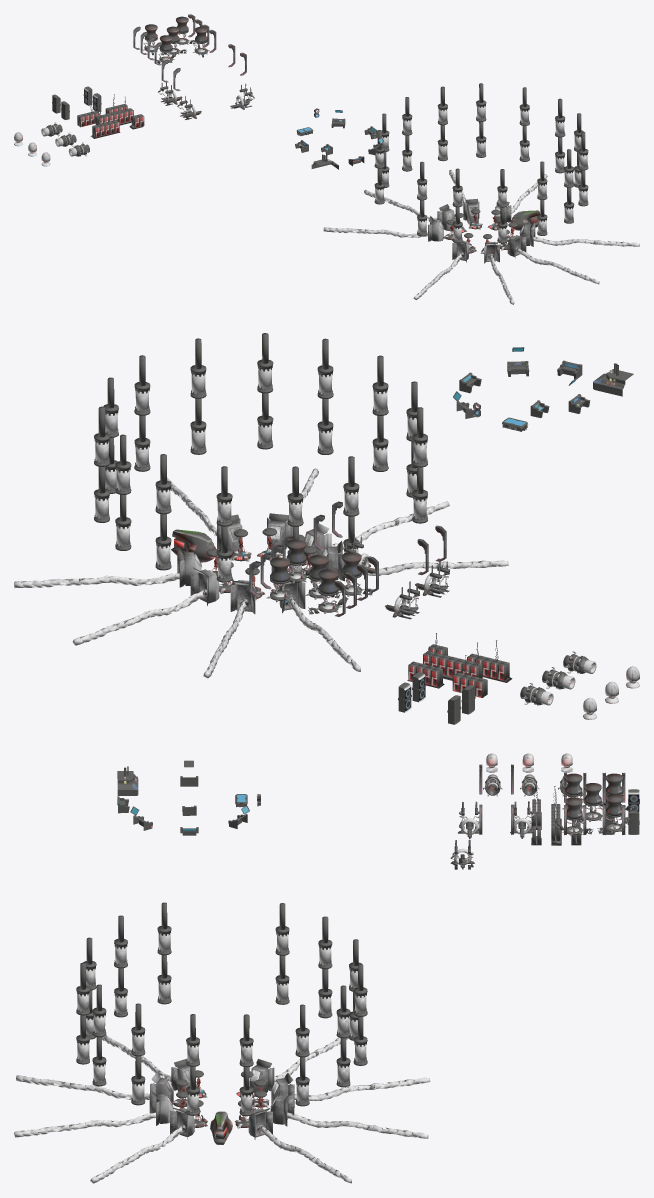
The picture shows the model from 3 angles, top to bottom: view 1: azimuth 30°, elevation 25°; view 2: azimuth 150°, elevation 25°; view 3: azimuth 270°, elevation 25°; orthographic projection. The views are drawn at different scales.
Parts seen in each view (by area): view 1: pCylinder148, pCylinder106, pCylinder127; view 2: pCylinder169, pCylinder190, eng_body_tooth, pCylinder106.001, polySurface4400, Mesh523, 1.022, Mesh523.001, pCylinder106, pCylinder254.012, pCylinder254.017, pCylinder254.007 (+30 smaller); view 3: pCylinder127, pCylinder190, pCylinder105, pCylinder211, pCylinder148, pCylinder169.
Boxes of the visible parts, x1=… form: pCylinder148: x1=533, y1=237, x2=639, y2=246; pCylinder106: x1=323, y1=227, x2=427, y2=237; pCylinder127: x1=515, y1=247, x2=599, y2=284; pCylinder169: x1=14, y1=573, x2=179, y2=588; pCylinder190: x1=72, y1=588, x2=206, y2=645; eng_body_tooth: x1=171, y1=529, x2=215, y2=562; pCylinder106.001: x1=362, y1=560, x2=508, y2=575; polySurface4400: x1=190, y1=567, x2=219, y2=605; Mesh523: x1=267, y1=557, x2=293, y2=602; 1.022: x1=593, y1=363, x2=633, y2=396; Mesh523.001: x1=316, y1=569, x2=341, y2=613; pCylinder106: x1=287, y1=597, x2=360, y2=671; pCylinder254.012: x1=94, y1=406, x2=109, y2=466; pCylinder254.017: x1=343, y1=456, x2=359, y2=516; pCylinder254.007: x1=372, y1=355, x2=388, y2=415; pCylinder127: x1=14, y1=1112, x2=155, y2=1137; pCylinder190: x1=287, y1=1112, x2=428, y2=1138; pCylinder105: x1=16, y1=1075, x2=149, y2=1099; pCylinder211: x1=294, y1=1077, x2=430, y2=1100; pCylinder148: x1=90, y1=1124, x2=186, y2=1183; pCylinder169: x1=257, y1=1125, x2=351, y2=1183.
Bounding box in the file's own units: 37499 × 13137 × 32896.
